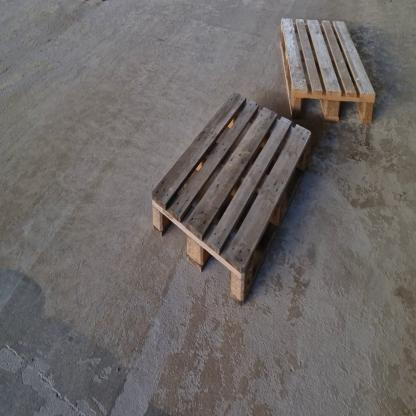BoxFace: (145, 88, 313, 312), (276, 12, 377, 131)
